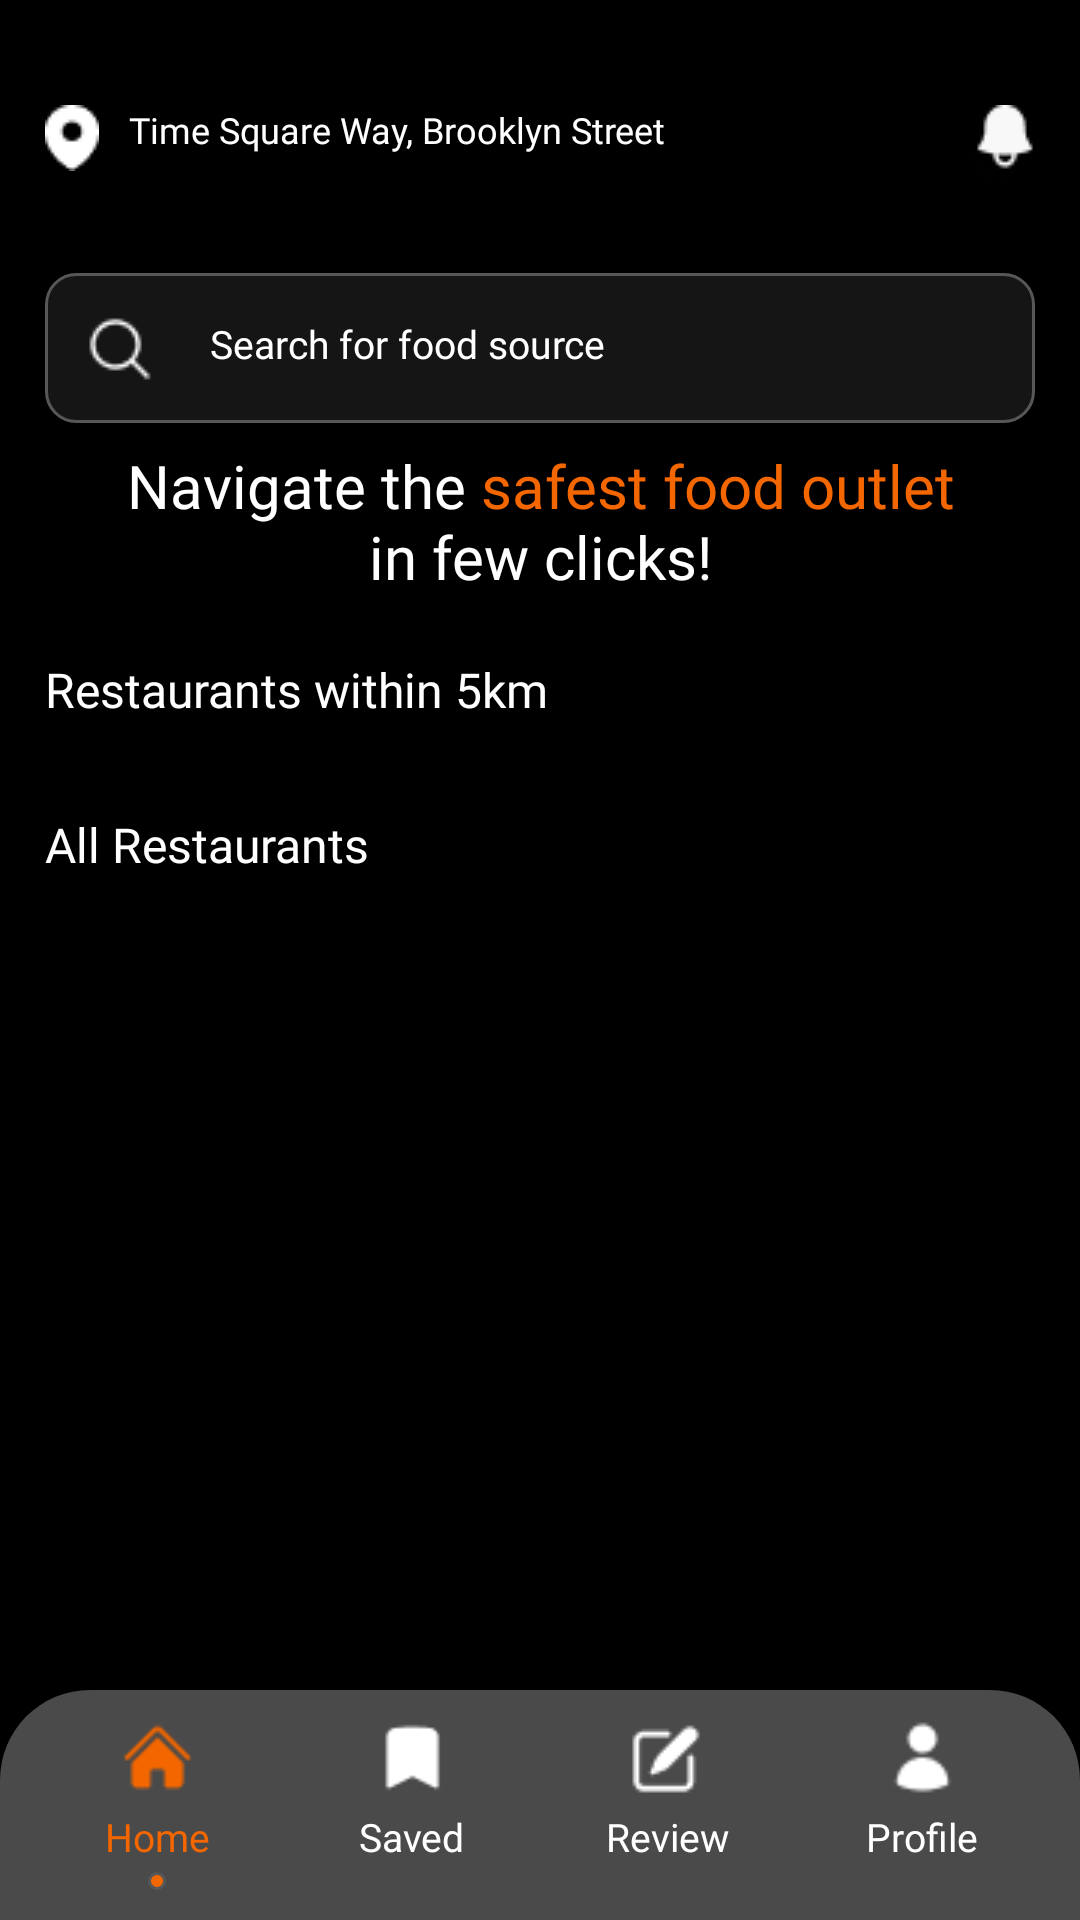

Screen size 1080 x 1920. Icon name, then its box in pixels as (x1, y1, x2, y2):
map pin: (45, 105, 99, 171)
notification: (977, 105, 1033, 169)
